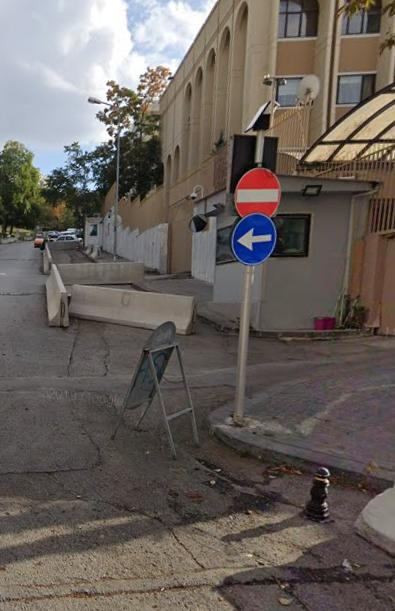turnleft: (230, 214, 277, 262)
